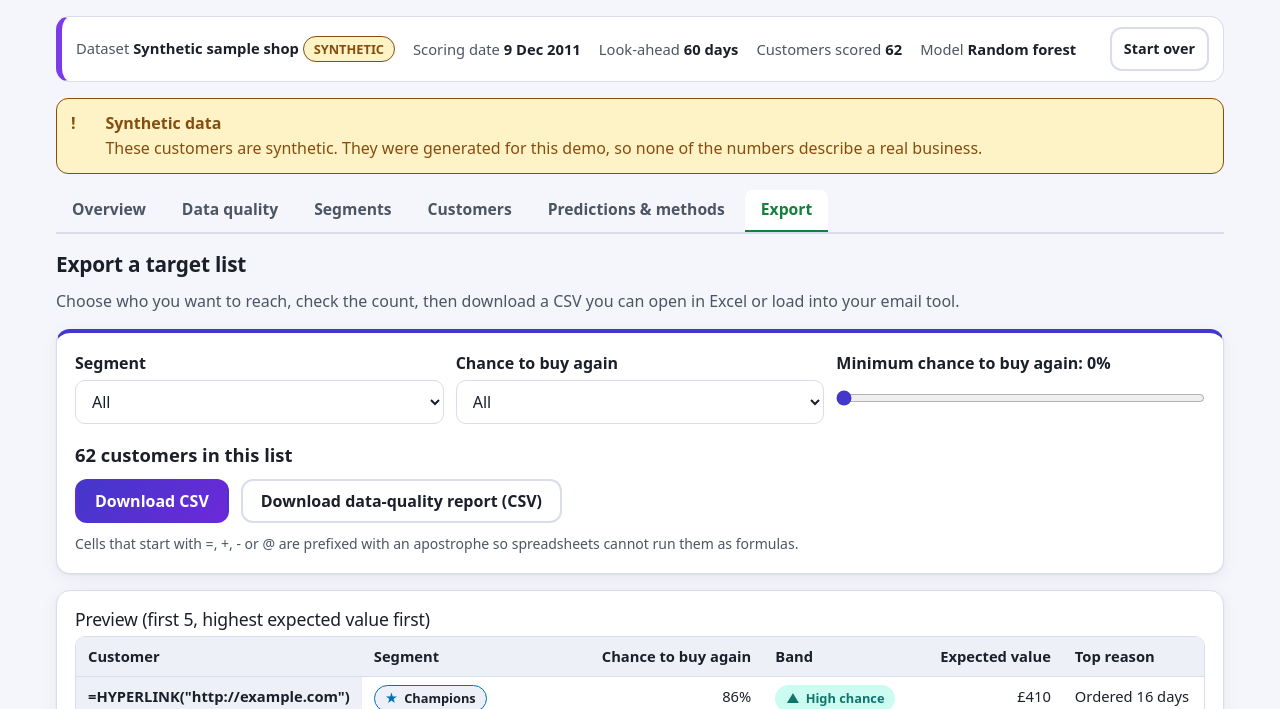
Scenario: Export tab › previews the filtered count and downloads only matching rows, with injection protection
Later steps or results of the test are not shown.
Expected: the text "62 customers in this list" is shown, x1=75 y1=442 x2=292 y2=467
Select "Champions" in the dropdown labelled "Segment" at [259, 402], box x1=75 y1=380 x2=444 y2=424
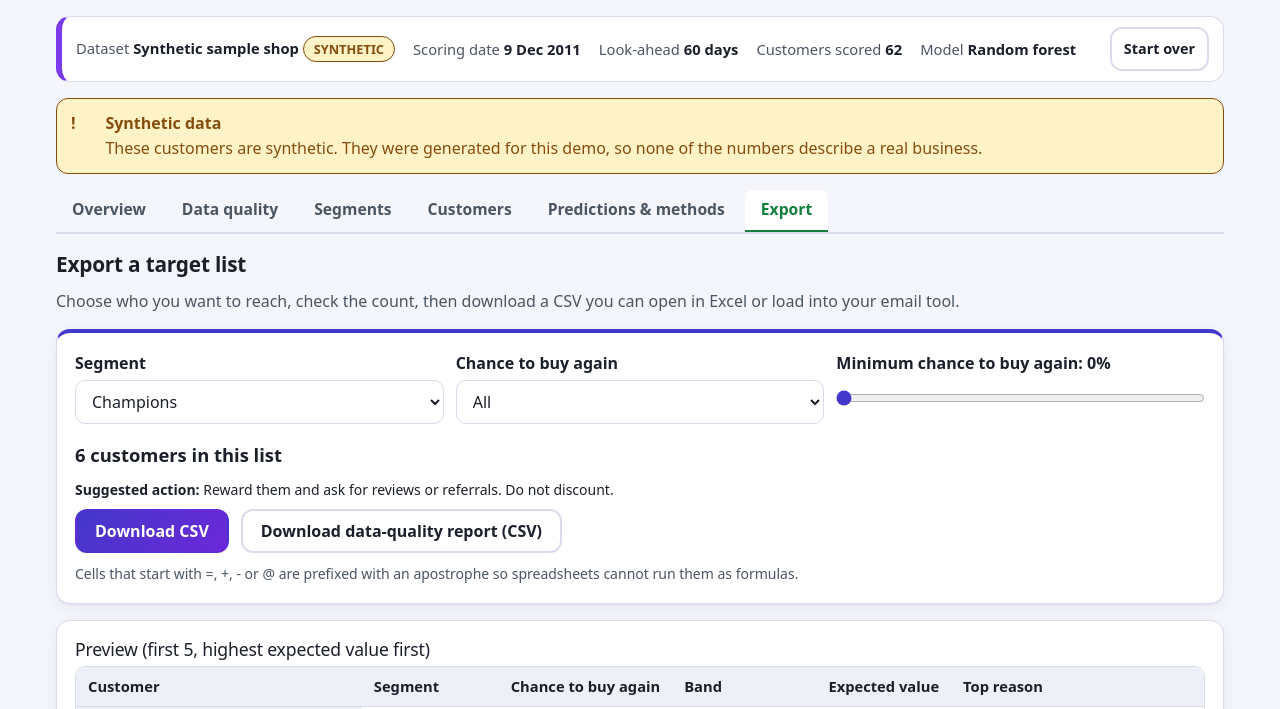
Now the text "6 customers in this list" is shown, box x1=75 y1=442 x2=282 y2=467
